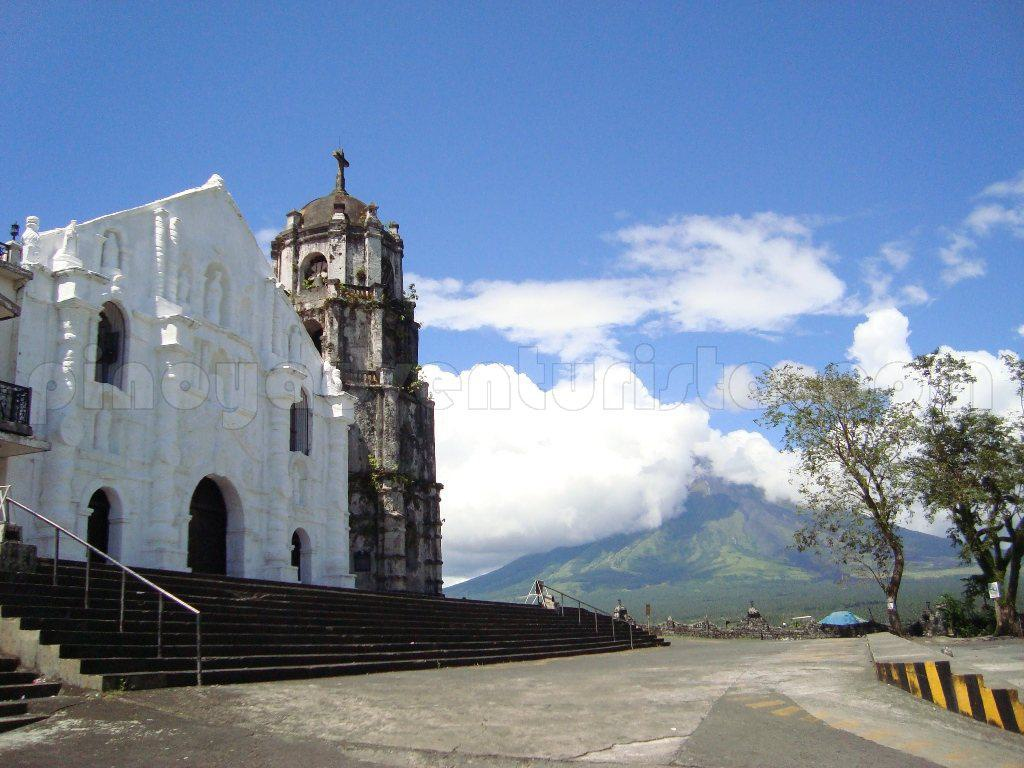daraga_church_daraga_albay: (12, 141, 457, 596)
vegetation_damage: (337, 284, 382, 314), (401, 366, 430, 401), (363, 453, 387, 495), (403, 281, 426, 308)
